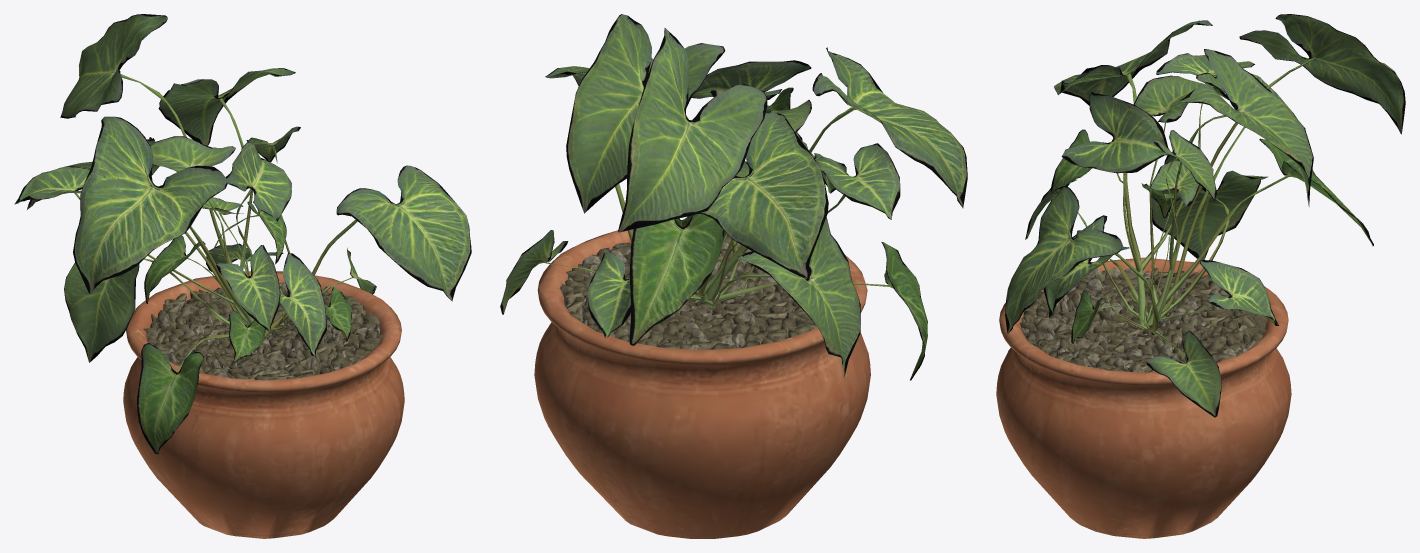
Rendered from planta-costela.glb.
3 views of the same model, side by side, from view 1: azimuth 30°, elevation 25°; view 2: azimuth 150°, elevation 25°; view 3: azimuth 270°, elevation 25° (orthographic). The views are drawn at different scales.
Parts seen in each view (by area): view 1: potted_plant_02_leaves, potted_plant_02_pot; view 2: potted_plant_02_leaves, potted_plant_02_pot; view 3: potted_plant_02_pot, potted_plant_02_leaves.
Part boxes in pixels (left/top/right/bottom): potted_plant_02_leaves: left=14, top=14, right=471, bottom=453; potted_plant_02_pot: left=123, top=271, right=404, bottom=538; potted_plant_02_leaves: left=500, top=14, right=967, bottom=380; potted_plant_02_pot: left=534, top=220, right=870, bottom=538; potted_plant_02_pot: left=996, top=257, right=1291, bottom=538; potted_plant_02_leaves: left=1005, top=14, right=1405, bottom=417.
Bounding box in the file's own units: 0.7009 × 0.8412 × 0.6574.
Materials: 2 (2 with a texture image).
